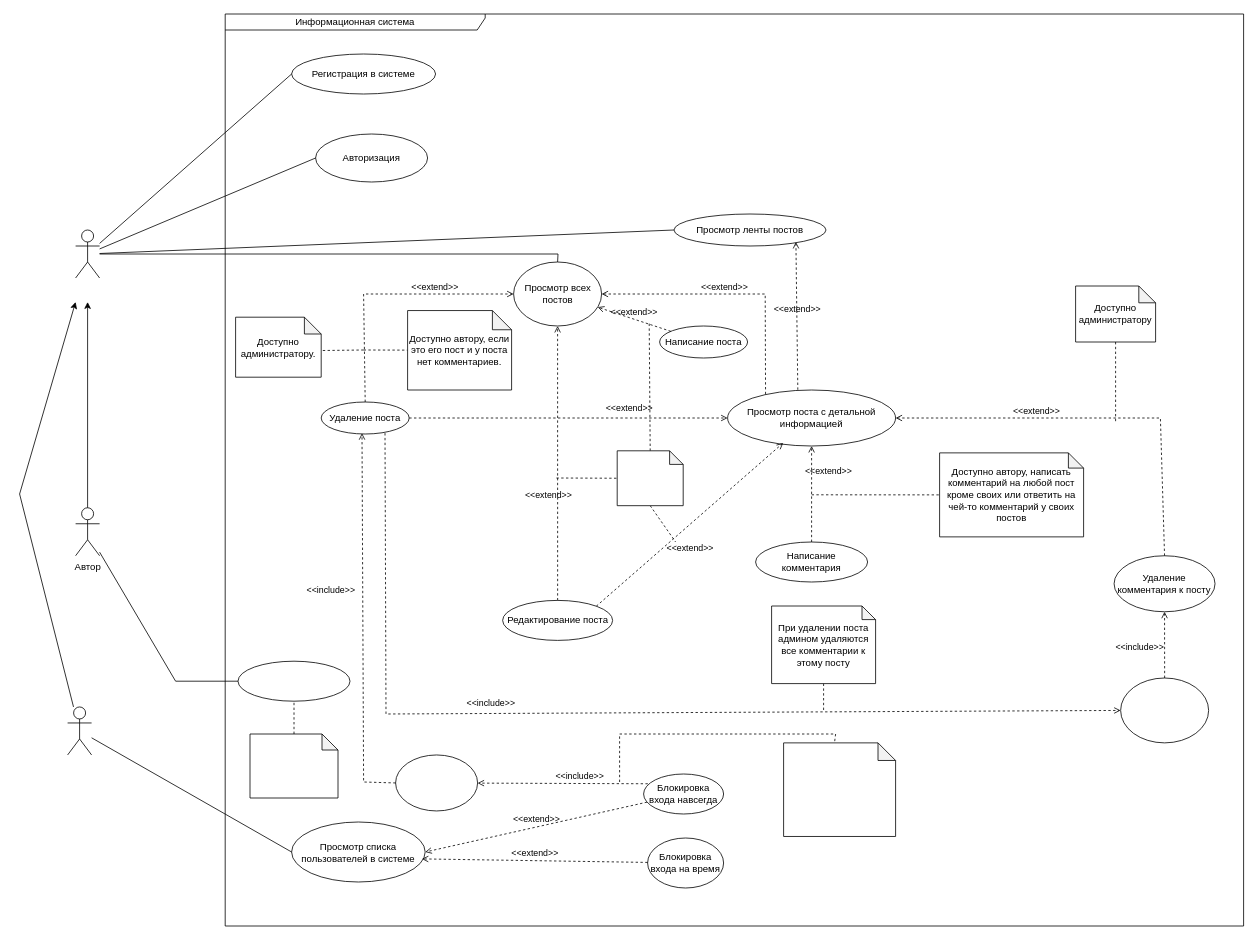
The diagram is 1258 pixels wide and 940 high, and some of its shapes have lost their labels. Here are the shapes that lost their labels. From the top down, the centre of each, then its label:
point (87, 253): Гость
point (649, 478): Доступно автору
point (293, 680): Выход из аккаунта
point (79, 730): Администратор
point (1164, 710): Удаление всех комментариев к посту
point (293, 765): Доступно автору и администратору.
point (436, 782): Удаление всех постов автора
point (839, 789): Если пользователь блокируется навсегда, удаляются все посты этого пользователя.
